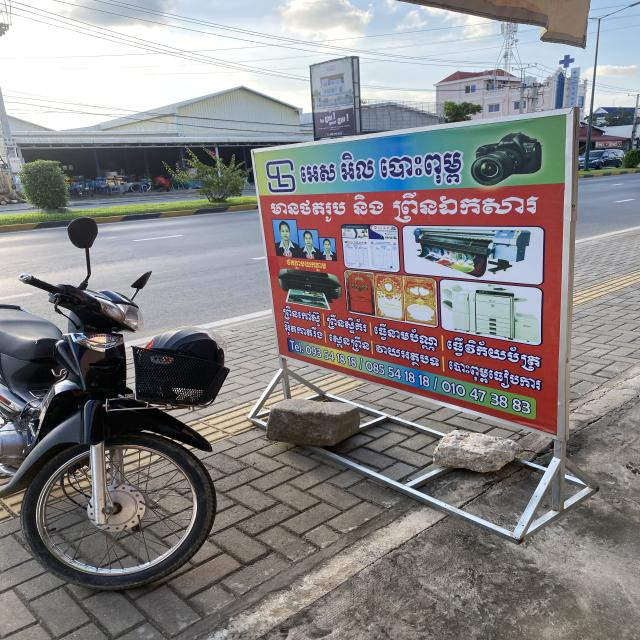2: (269, 185, 541, 227), (294, 141, 471, 190)
448: (304, 342, 532, 418)
489: (330, 131, 343, 136)
6: (282, 320, 543, 398), (280, 302, 544, 374)
701: (324, 256, 333, 261)
739: (305, 253, 316, 260)
763: (282, 250, 292, 257)
Yolov11kh: (286, 258, 328, 273), (336, 112, 351, 126), (324, 111, 337, 124), (324, 106, 342, 114), (328, 119, 337, 126), (319, 118, 325, 124)
